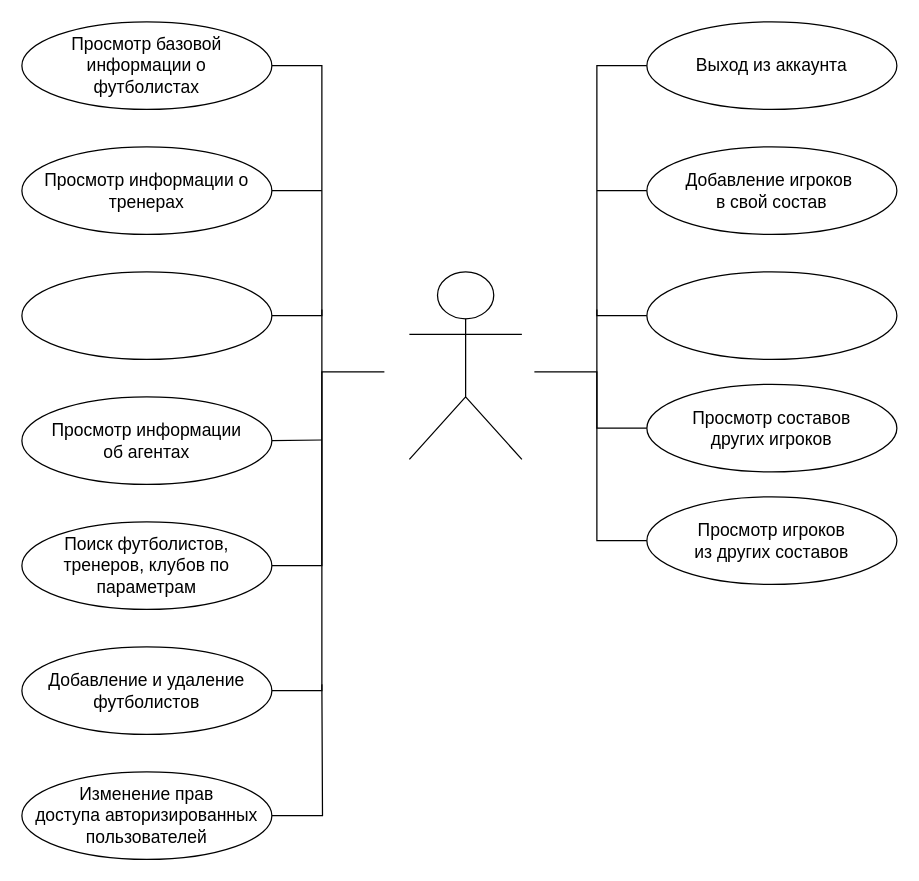
The diagram is 919 pixels wide and 881 high, and some of its shapes have lost their labels. The shapes that lost their labels are listed below. From the top down, each one's centre as x and y in pixels, then its label:
[146,315]: Просмотр базовой информации о клубах
[771,315]: Просмотр актуальной цены футболистов на рынке
[465,365]: Администратор
